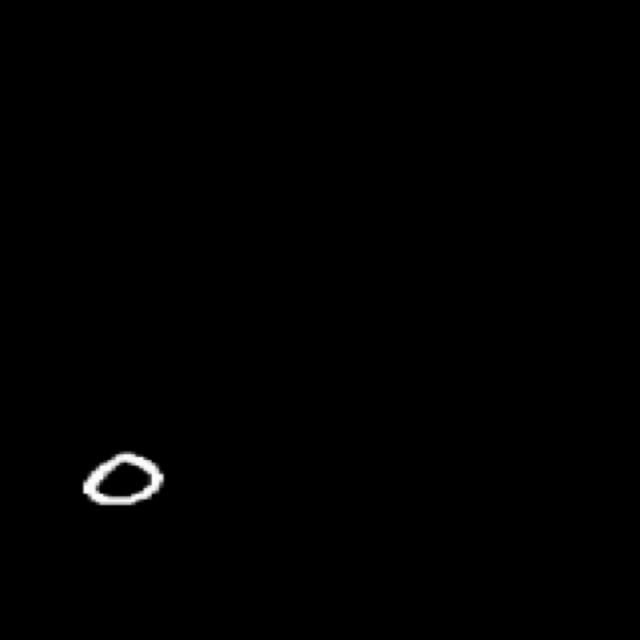zero -0-: (70, 433, 183, 527)
